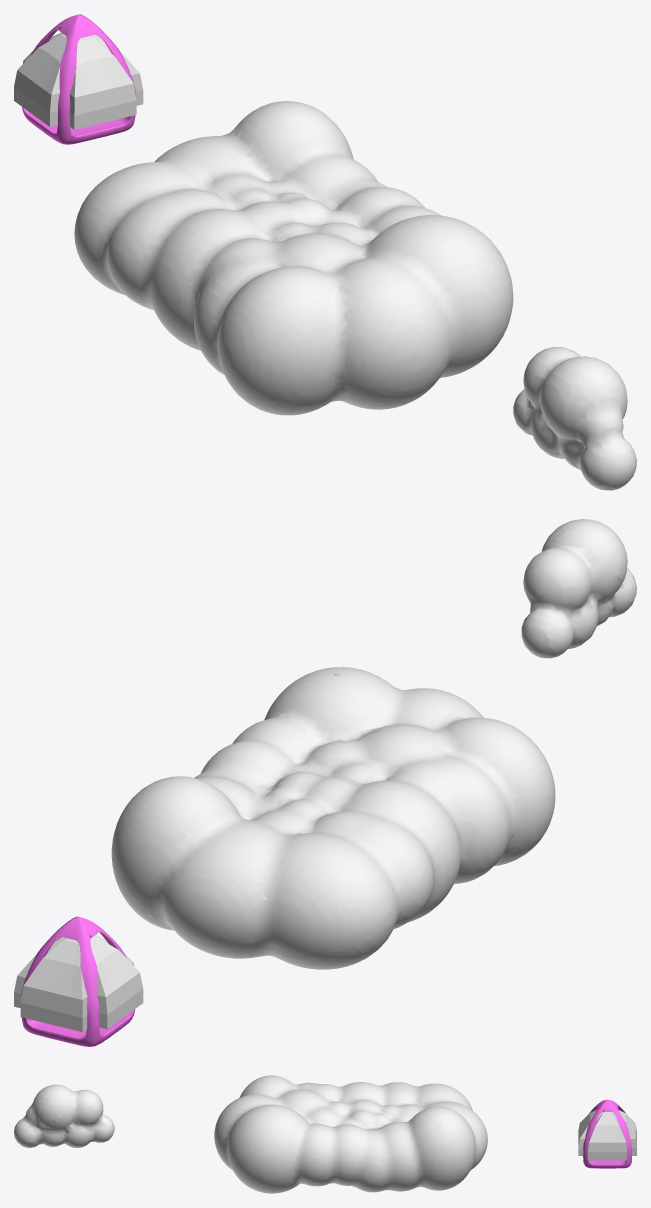
Rendered from clouds.glb.
The picture shows the model from 3 angles, top to bottom: view 1: azimuth 30°, elevation 25°; view 2: azimuth 150°, elevation 25°; view 3: azimuth 270°, elevation 25°; orthographic projection. The views are drawn at different scales.
Visible parts, largest first — view 1: BigCloud, TinyCloud, Cube.001, Cube, Cube.002; view 2: BigCloud, TinyCloud, Cube.001, Cube, Cube.002; view 3: BigCloud, TinyCloud, Cube.002, Cube, Cube.001.
Boxes of the visible parts, x1,y1,x2,y2 form: BigCloud: (74, 101, 513, 415); TinyCloud: (513, 347, 636, 490); Cube.001: (23, 32, 136, 129); Cube: (22, 14, 136, 144); Cube.002: (14, 34, 143, 126); BigCloud: (111, 667, 555, 969); TinyCloud: (521, 519, 636, 658); Cube.001: (20, 935, 134, 1032); Cube: (21, 916, 135, 1046); Cube.002: (14, 936, 143, 1029); BigCloud: (214, 1075, 487, 1193); TinyCloud: (14, 1084, 114, 1147); Cube.002: (588, 1112, 627, 1160); Cube: (583, 1099, 631, 1168); Cube.001: (578, 1110, 636, 1155).
Bounding box in the file's own units: 28.5 × 16.72 × 102.
1 material, 1 textured.
